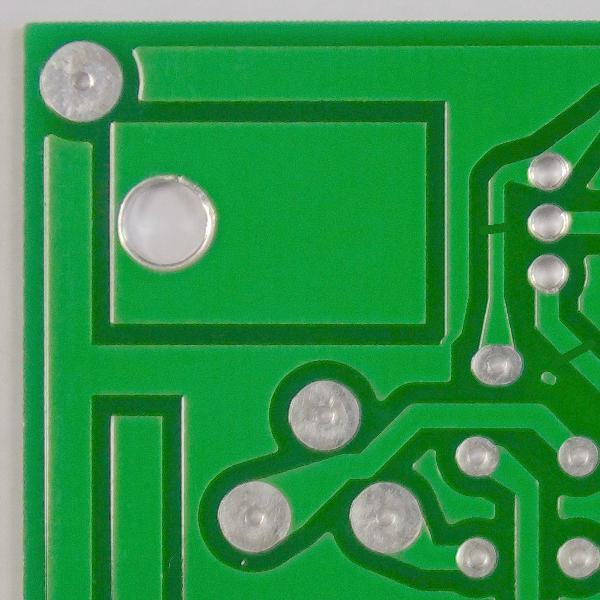open_circuit: (555, 340, 592, 365), (482, 216, 513, 239)
